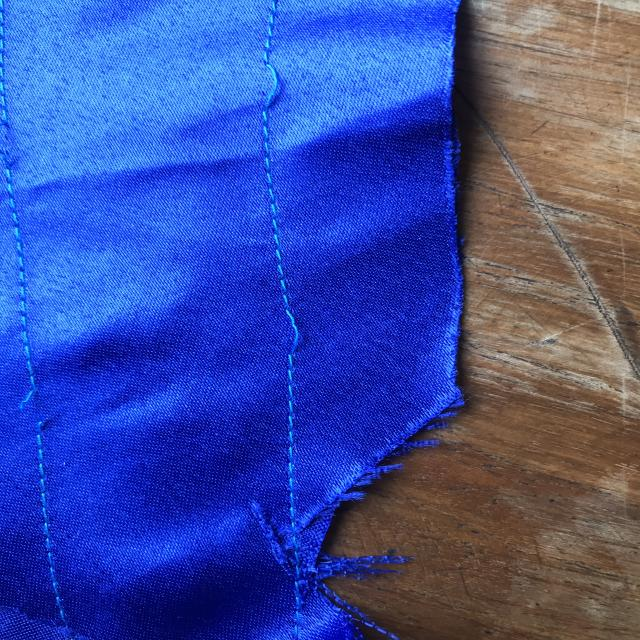broken: (15, 363, 67, 445)
skip: (219, 39, 313, 122), (264, 286, 316, 371)
